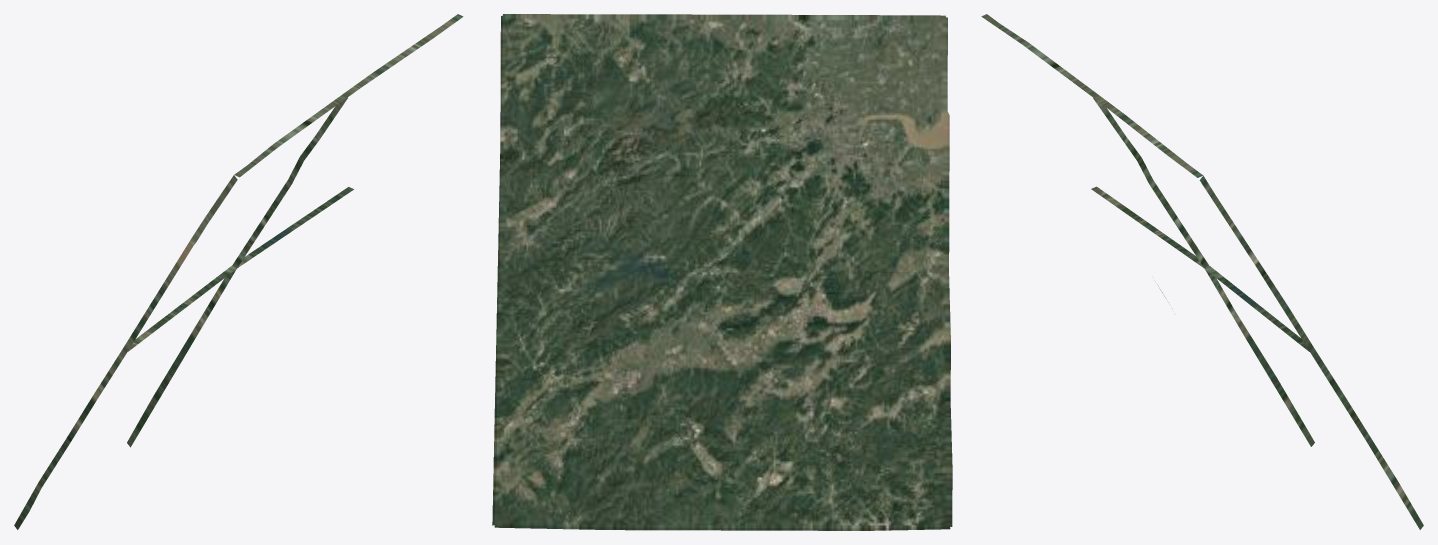
3 renders of one model, left to right at view 1: azimuth 30°, elevation 25°; view 2: azimuth 150°, elevation 25°; view 3: azimuth 270°, elevation 25°, orthographic.
Bounding box in the file's own units: 317084 × 275544 × 272459.
1 material, 1 textured.
